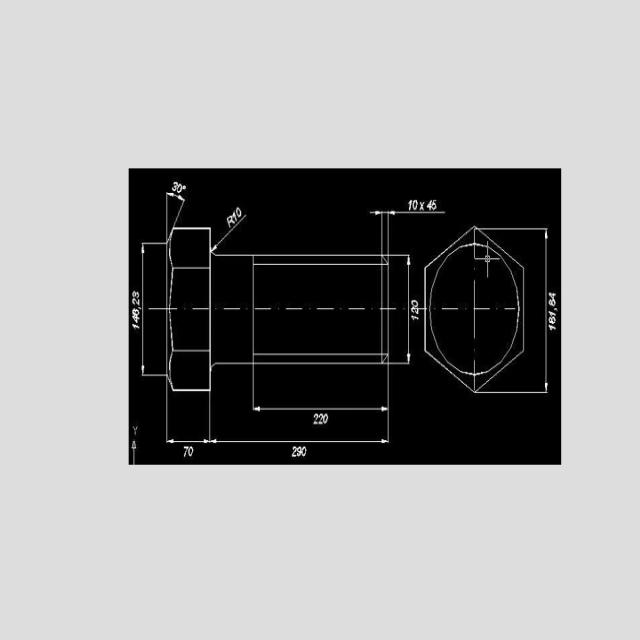marking_line: (209, 392, 391, 445), (251, 366, 393, 413), (525, 227, 549, 395), (140, 241, 166, 378), (368, 210, 447, 254), (390, 255, 414, 366), (166, 393, 212, 444), (212, 215, 247, 251), (166, 190, 185, 226), (130, 439, 138, 464)
numeric: (131, 425, 139, 437), (183, 446, 189, 459), (313, 412, 319, 425), (413, 199, 419, 211), (549, 299, 557, 308), (132, 314, 140, 323), (301, 447, 307, 458), (236, 207, 242, 218), (323, 412, 328, 425), (411, 315, 419, 323), (411, 299, 418, 308), (188, 447, 194, 457), (318, 413, 323, 425), (292, 446, 297, 458), (427, 199, 432, 211), (432, 200, 437, 212), (233, 211, 238, 223), (177, 183, 183, 193), (548, 325, 556, 332), (132, 298, 140, 305), (132, 291, 140, 298), (172, 181, 177, 192), (549, 316, 555, 325), (548, 310, 557, 316), (411, 307, 418, 314), (549, 292, 556, 299), (132, 324, 140, 330), (132, 309, 140, 315), (297, 446, 301, 456), (408, 199, 411, 211)
special_symbol: (419, 200, 424, 212), (182, 185, 187, 191), (554, 307, 559, 312)
